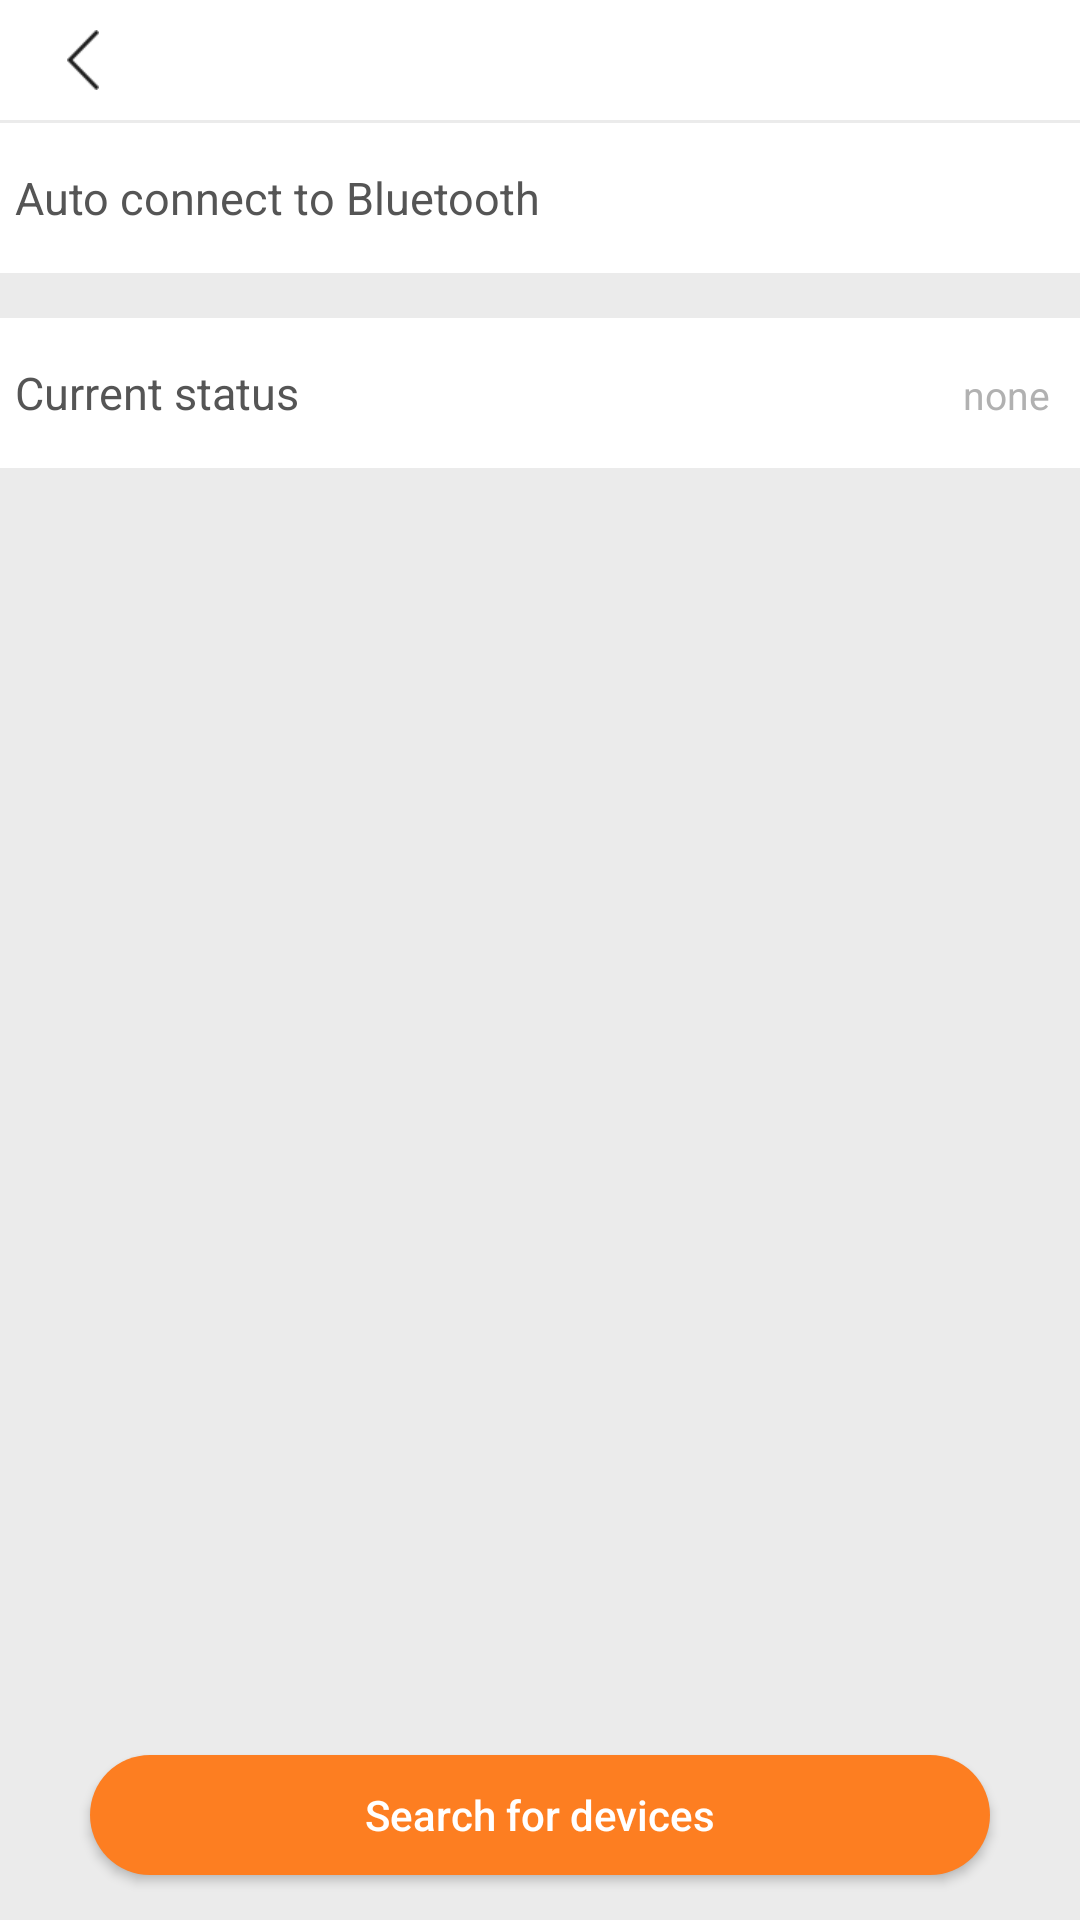

Icon click points for this 1080 × 1920 phone screenshot, format (x=x, y=y):
back: (x=83, y=60)
